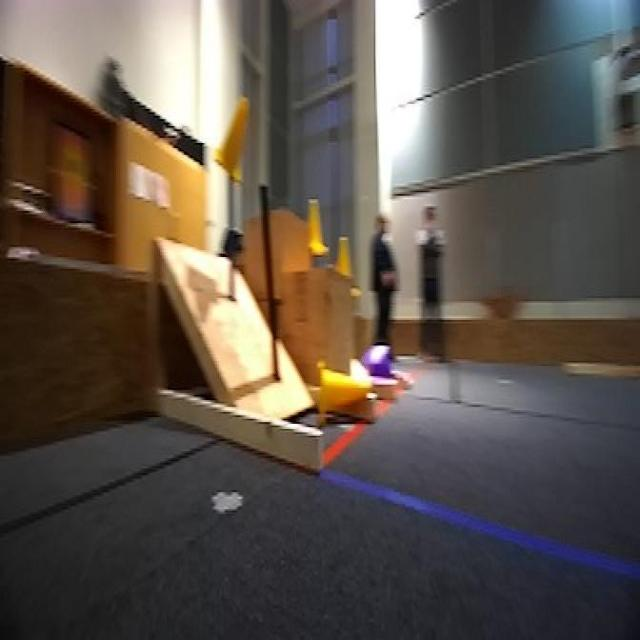frc_cone: (314, 358, 370, 426), (212, 97, 250, 186), (306, 197, 326, 252), (338, 233, 352, 281)
frc_cube: (365, 337, 392, 385)
